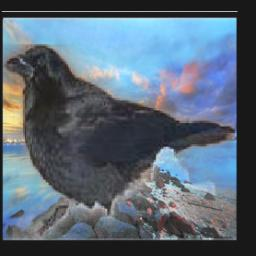Crow: (3, 44, 235, 240)
